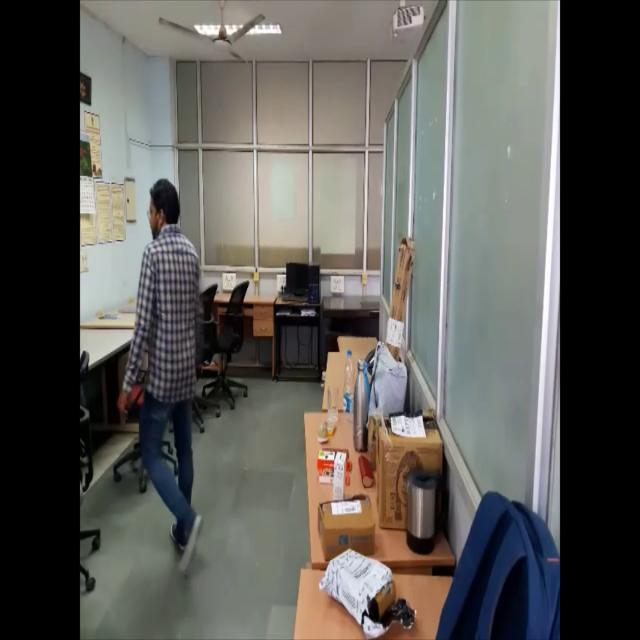normal: (113, 170, 205, 580)
